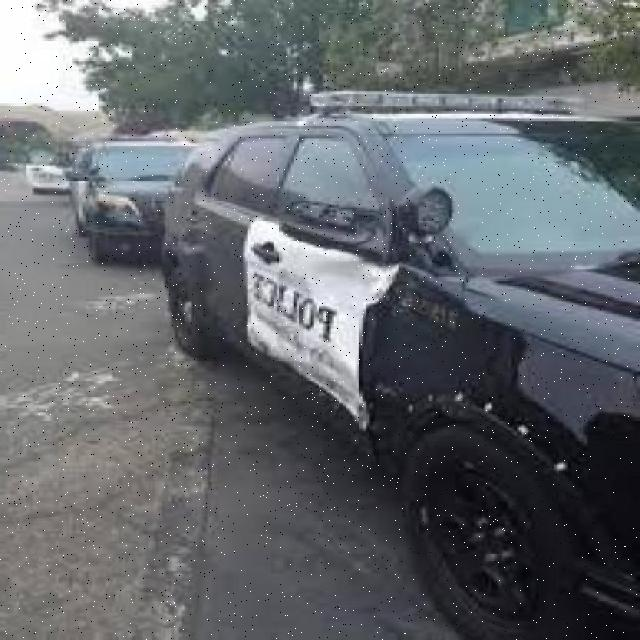damage: (230, 247, 463, 441)
